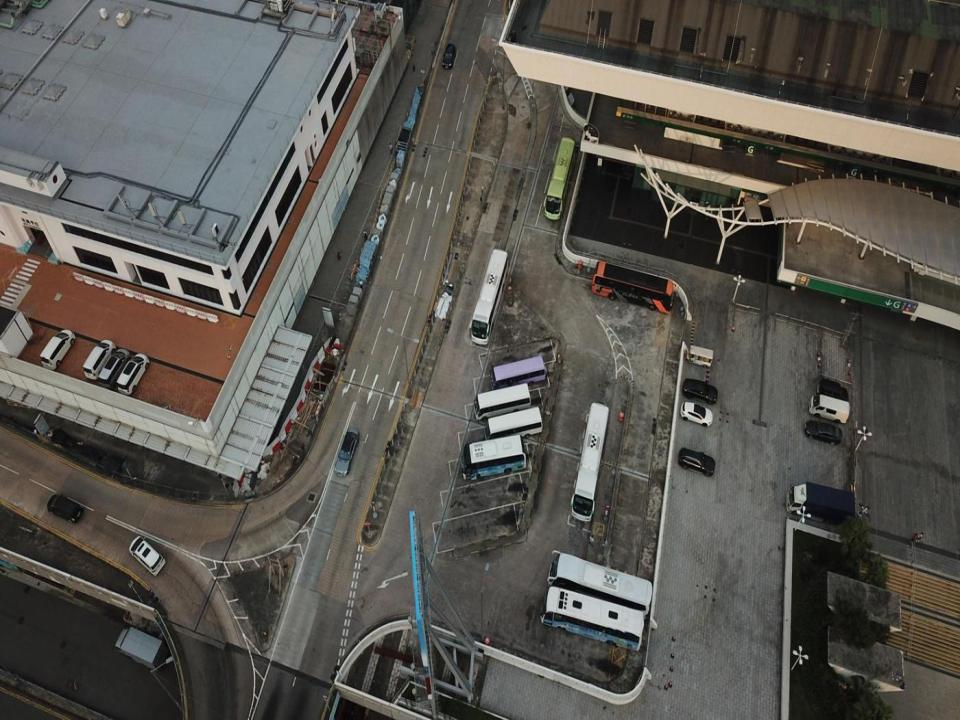bus: (548, 550, 652, 620), (539, 586, 644, 652), (570, 402, 609, 522), (592, 262, 674, 314), (469, 250, 508, 346), (460, 435, 526, 480), (543, 136, 575, 221), (474, 383, 531, 421), (484, 406, 543, 442), (489, 356, 545, 390)
car: (334, 429, 358, 477), (682, 377, 718, 404), (804, 420, 841, 445), (680, 401, 713, 427)
truck: (785, 481, 855, 526)
van: (117, 352, 150, 397), (40, 328, 75, 370), (98, 347, 130, 392), (82, 340, 117, 380), (129, 536, 164, 576), (808, 394, 850, 424), (678, 447, 715, 477), (47, 492, 82, 522), (816, 378, 848, 404), (442, 43, 456, 68)
